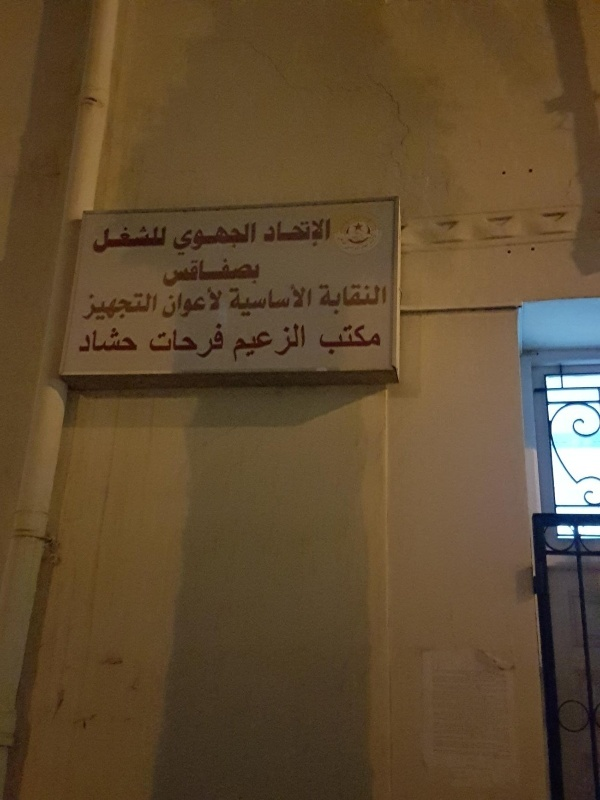text: (241, 322, 256, 363), (257, 322, 272, 363), (273, 322, 288, 363), (289, 322, 304, 363), (161, 322, 176, 359), (177, 322, 192, 359), (193, 322, 208, 359), (209, 322, 224, 359), (241, 283, 256, 319), (257, 283, 272, 319), (273, 283, 288, 319), (289, 283, 304, 319), (177, 221, 192, 257), (193, 221, 208, 257), (209, 221, 224, 257), (225, 221, 240, 257), (241, 221, 256, 257), (177, 286, 192, 321), (193, 286, 208, 321), (209, 286, 224, 321), (321, 284, 336, 317), (337, 284, 352, 317), (353, 284, 368, 317), (369, 284, 384, 317), (321, 324, 336, 357), (337, 324, 352, 357), (353, 324, 368, 357), (97, 224, 112, 254), (113, 224, 128, 254), (129, 224, 144, 254), (145, 224, 160, 254), (177, 258, 192, 288), (193, 258, 208, 288), (209, 258, 224, 288), (225, 258, 240, 288), (241, 258, 256, 288), (273, 218, 288, 248), (289, 218, 304, 248), (305, 218, 320, 248), (97, 291, 112, 320), (113, 291, 128, 320), (129, 291, 144, 320), (369, 324, 382, 357), (164, 286, 176, 321), (97, 325, 112, 352), (113, 325, 128, 352), (145, 291, 158, 320), (230, 283, 240, 319), (164, 258, 176, 288), (151, 322, 160, 359), (321, 218, 331, 248), (129, 325, 140, 352), (305, 283, 313, 319), (233, 322, 240, 363), (88, 325, 96, 352), (161, 224, 168, 254), (265, 218, 272, 248), (90, 291, 96, 320), (317, 284, 320, 317), (93, 224, 96, 254), (257, 258, 260, 288), (174, 221, 176, 257), (385, 284, 387, 317), (305, 322, 306, 363), (225, 322, 226, 359), (257, 221, 258, 257)
